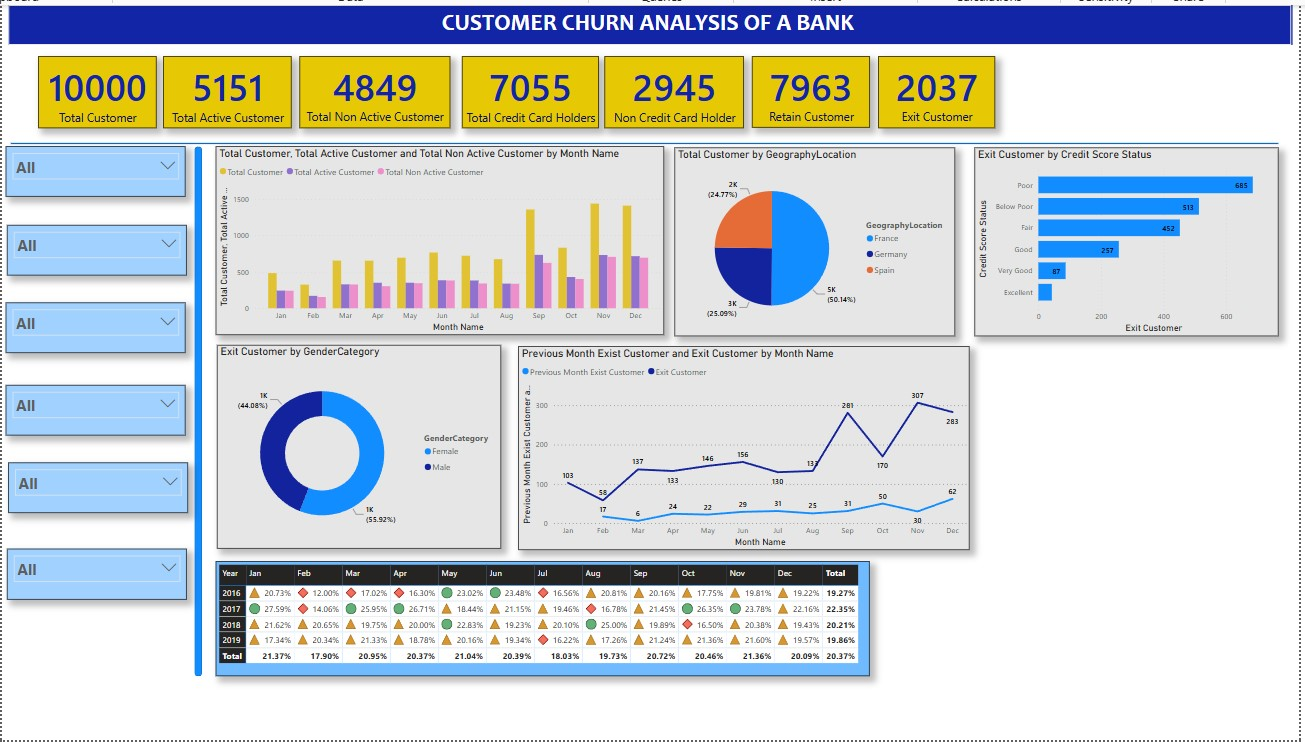

This screenshot's page, from the dashboard's own definition file:
{"tool":"powerbi","page":{"name":"Page 2","canvas":[2080,1180],"ordinal":0},"visuals":[{"type":"textbox","box":[9.4,0,2058.1,64.2],"z":0},{"type":"card","fields":{"Values":["All Measure Calculation.Total Customer"]},"box":[57.6,82.1,189.2,115.2],"z":1000},{"type":"card","fields":{"Values":["All Measure Calculation.Measure"]},"box":[259.1,82.1,205.7,115.2],"z":2000},{"type":"card","fields":{"Values":["All Measure Calculation.Measure"]},"box":[477.1,82.1,241.3,115.2],"z":3000},{"type":"card","fields":{"Values":["All Measure Calculation.Credit card holders"]},"box":[736.3,82.1,219.4,115.2],"z":4000},{"type":"card","fields":{"Values":["All Measure Calculation.Non Credit Card Holder"]},"box":[966.6,82.1,223.5,115.2],"z":5000},{"type":"card","fields":{"Values":["All Measure Calculation.Retain Customer"]},"box":[1202,83,189,114],"z":6000},{"type":"card","fields":{"Values":["All Measure Calculation.Exit Customer"]},"box":[1405,82,187,115],"z":7000},{"type":"shape","box":[13.2,213.4,2031.7,15.1],"z":8000},{"type":"shape","box":[308.3,226.7,12,850],"z":9000},{"type":"slicer","fields":{"Values":["Date_master.Year"]},"box":[6.7,226.7,288.3,81],"z":10000},{"type":"slicer","fields":{"Values":["Geography.GeographyLocation"]},"box":[6.7,476.7,288.3,81],"z":11000},{"type":"slicer","fields":{"Values":["Date_master.Month Name"]},"box":[8.3,351.7,288.3,81],"z":12000},{"type":"slicer","fields":{"Values":["Active customers.ActiveCategory"]},"box":[6.7,610,288.3,81],"z":13000},{"type":"slicer","fields":{"Values":["Customer Exit.ExitCategory"]},"box":[10,733.3,288.3,81],"z":14000},{"type":"slicer","fields":{"Values":["Gender.GenderCategory"]},"box":[8.3,871.7,288.3,81.7],"z":15000},{"type":"clusteredColumnChart","fields":{"Category":["Date_master.Year","Date_master.Month Name"],"Y":["All Measure Calculation.Total Customer","All Measure Calculation.Total Active Customer","All Measure Calculation.Total Non Active Customer"]},"box":[342.9,227.4,718.8,302.5],"z":16000},{"type":"pieChart","fields":{"Y":["All Measure Calculation.Total Customer"],"Category":["Geography.GeographyLocation"]},"box":[1078.2,229.2,449.2,302.5],"z":17000},{"type":"donutChart","fields":{"Category":["Gender.GenderCategory"],"Y":["All Measure Calculation.Exit Customer"]},"box":[343.6,545.7,455,326.7],"z":18000},{"type":"lineChart","fields":{"Y":["All Measure Calculation.Previous Month Exist Customer","All Measure Calculation.Exit Customer"],"Category":["Date_master.Month Name"]},"box":[827,547.6,723.2,326.7],"z":19000},{"type":"clusteredBarChart","fields":{"Category":["Bank_Churn.Credit Score Status"],"Y":["All Measure Calculation.Exit Customer"]},"box":[1557.7,228.5,487.1,302.1],"z":20000},{"type":"pivotTable","fields":{"Rows":["Date_master.Year"],"Values":["All Measure Calculation.Churn %"],"Columns":["Date_master.Month Name"]},"box":[342.6,891.5,1047.8,184.3],"z":21000}]}

Visuals, with their boxes in screenshot pixels (x1, y1, x2, y2):
textbox: (x1=9, y1=0, x2=1283, y2=40)
card - All Measure Calculation.Total Customer: (x1=39, y1=51, x2=156, y2=122)
card - All Measure Calculation.Measure: (x1=164, y1=51, x2=291, y2=122)
card - All Measure Calculation.Measure: (x1=299, y1=51, x2=448, y2=122)
card - All Measure Calculation.Credit card holders: (x1=459, y1=51, x2=595, y2=122)
card - All Measure Calculation.Non Credit Card Holder: (x1=601, y1=51, x2=740, y2=122)
card - All Measure Calculation.Retain Customer: (x1=747, y1=51, x2=864, y2=122)
card - All Measure Calculation.Exit Customer: (x1=873, y1=51, x2=988, y2=122)
shape: (x1=12, y1=132, x2=1269, y2=141)
shape: (x1=194, y1=140, x2=202, y2=666)
slicer - Date_master.Year: (x1=8, y1=140, x2=186, y2=190)
slicer - Geography.GeographyLocation: (x1=8, y1=295, x2=186, y2=345)
slicer - Date_master.Month Name: (x1=9, y1=218, x2=187, y2=268)
slicer - Active customers.ActiveCategory: (x1=8, y1=377, x2=186, y2=428)
slicer - Customer Exit.ExitCategory: (x1=10, y1=454, x2=188, y2=504)
slicer - Gender.GenderCategory: (x1=9, y1=539, x2=187, y2=590)
clusteredColumnChart - Date_master.Year x Date_master.Month Name: (x1=216, y1=141, x2=660, y2=328)
pieChart - All Measure Calculation.Total Customer x Geography.GeographyLocation: (x1=671, y1=142, x2=948, y2=329)
donutChart - Gender.GenderCategory x All Measure Calculation.Exit Customer: (x1=216, y1=338, x2=498, y2=540)
lineChart - All Measure Calculation.Previous Month Exist Customer x All Measure Calculation.Exit Customer: (x1=515, y1=339, x2=963, y2=541)
clusteredBarChart - Bank_Churn.Credit Score Status x All Measure Calculation.Exit Customer: (x1=967, y1=141, x2=1269, y2=328)
pivotTable - Date_master.Year x All Measure Calculation.Churn %: (x1=215, y1=552, x2=864, y2=666)
